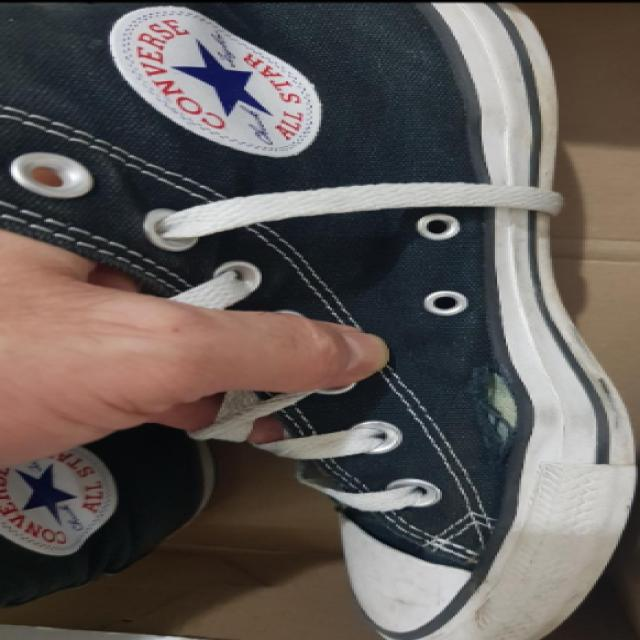bonding: (477, 366, 541, 476)
